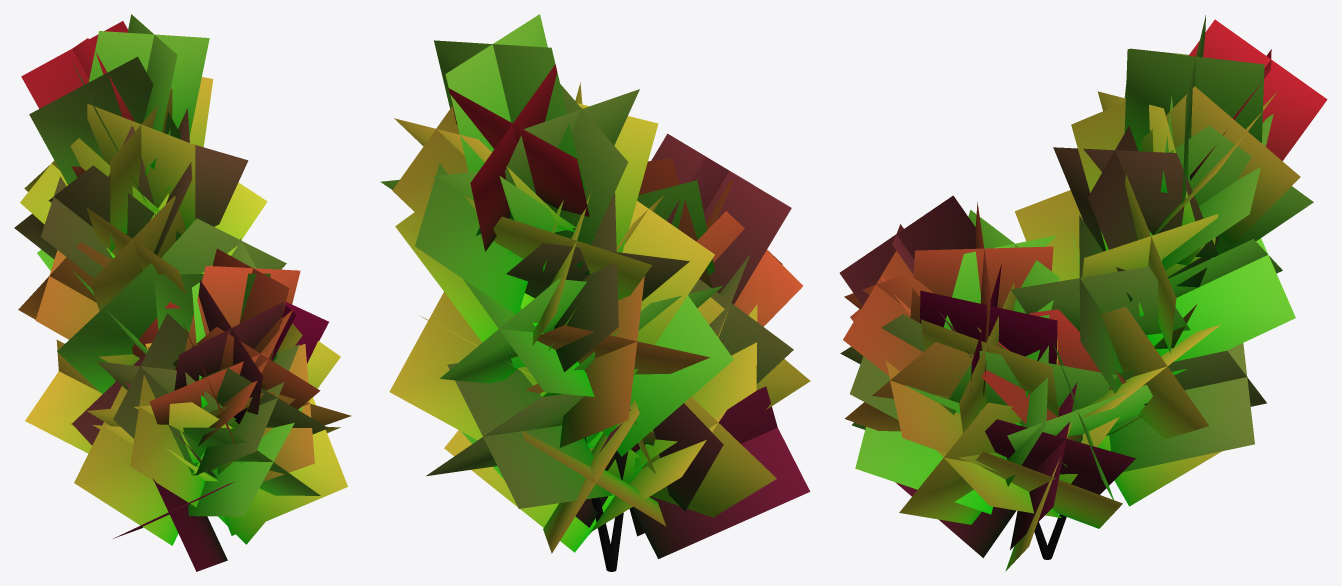
Rendered from Tree_11.fbx.
The picture shows the model from 3 angles, left to right: view 1: azimuth 30°, elevation 25°; view 2: azimuth 150°, elevation 25°; view 3: azimuth 270°, elevation 25°; orthographic projection. The views are drawn at different scales.
Parts seen in each view (by area): view 1: Tree_11; view 2: Tree_11; view 3: Tree_11.
Part boxes in pixels (box(x1,y1,x2,y2)): Tree_11: box(14, 14, 351, 571); Tree_11: box(380, 14, 810, 571); Tree_11: box(839, 15, 1327, 571).
Size of the model in its own units: 1078 by 1910 by 1590.
